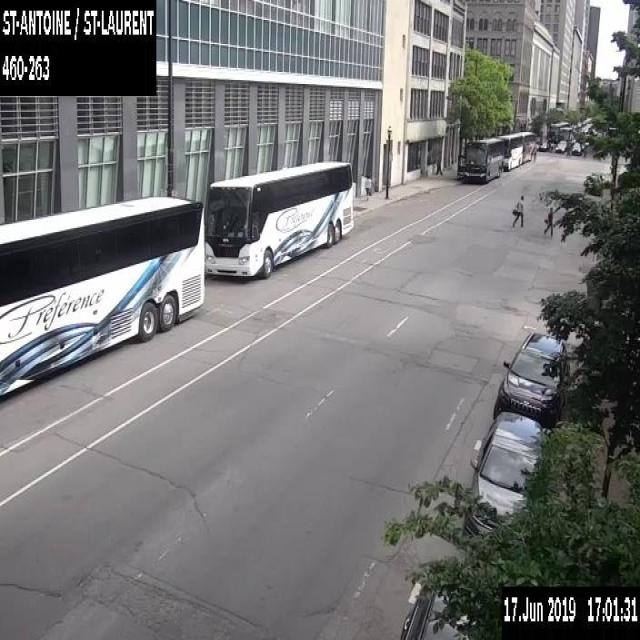bus: (0, 193, 204, 399), (205, 158, 354, 278), (463, 136, 503, 182), (495, 132, 522, 170), (511, 130, 536, 162), (548, 120, 569, 143)
pedestrian: (511, 193, 523, 228), (542, 205, 553, 239), (363, 174, 370, 202), (435, 154, 442, 176), (582, 146, 586, 158), (566, 144, 570, 155)
vehicle: (462, 410, 548, 549), (493, 330, 569, 426), (399, 576, 482, 638), (559, 126, 572, 144), (538, 139, 550, 150), (555, 142, 564, 152), (571, 144, 580, 154), (558, 139, 566, 148), (572, 141, 579, 147)
